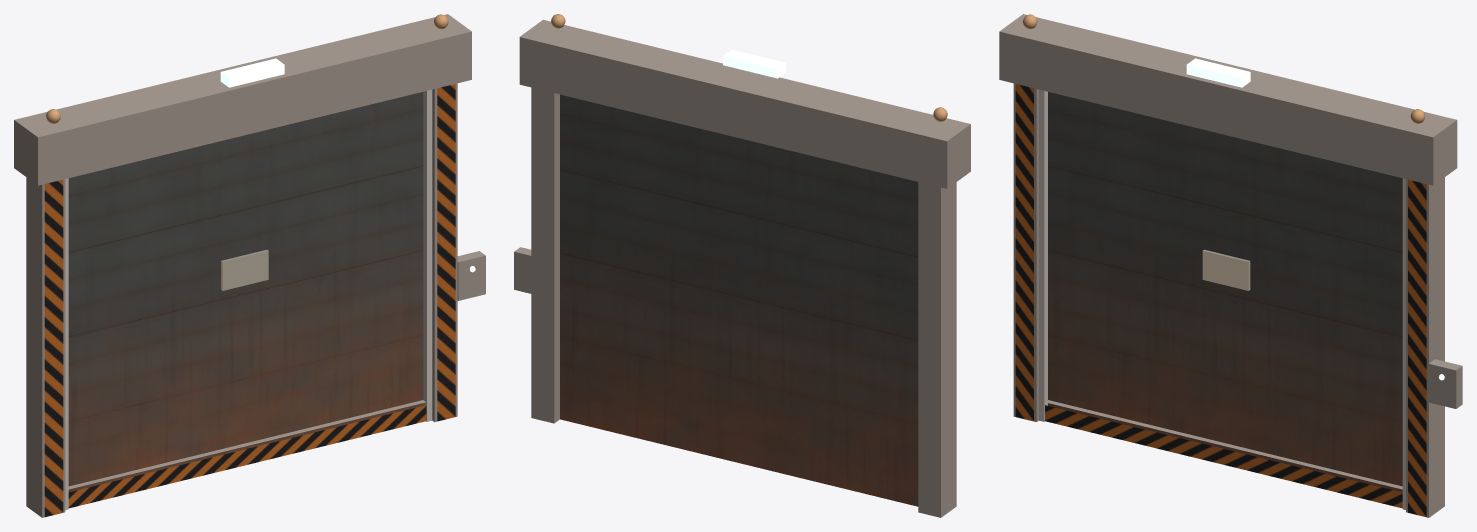
Rendered from P09_rollup_door.glb.
3 renders of one model, left to right at view 1: azimuth 30°, elevation 25°; view 2: azimuth 150°, elevation 25°; view 3: azimuth 330°, elevation 25°, orthographic.
Parts seen in each view (by area): view 1: door_slats, jamb_warning_stripes, guide_rail, door_window, object 4; view 2: door_slats, object 4; view 3: door_slats, jamb_warning_stripes, guide_rail, door_window, object 4.
Boxes of the visible parts, x1,y1,x2,y2 form: door_slats: (14, 14, 485, 517); jamb_warning_stripes: (44, 84, 455, 516); guide_rail: (65, 89, 432, 509); door_window: (221, 249, 268, 290); object 4: (220, 58, 475, 272); door_slats: (514, 19, 970, 517); object 4: (723, 49, 785, 78); door_slats: (999, 14, 1462, 517); jamb_warning_stripes: (1015, 84, 1426, 517); guide_rail: (1039, 89, 1405, 509); door_window: (1202, 249, 1250, 290); object 4: (1186, 58, 1444, 380).
Bounding box in the file's own units: 4.9 × 4.17 × 0.4849.
7 materials, 2 textured.
